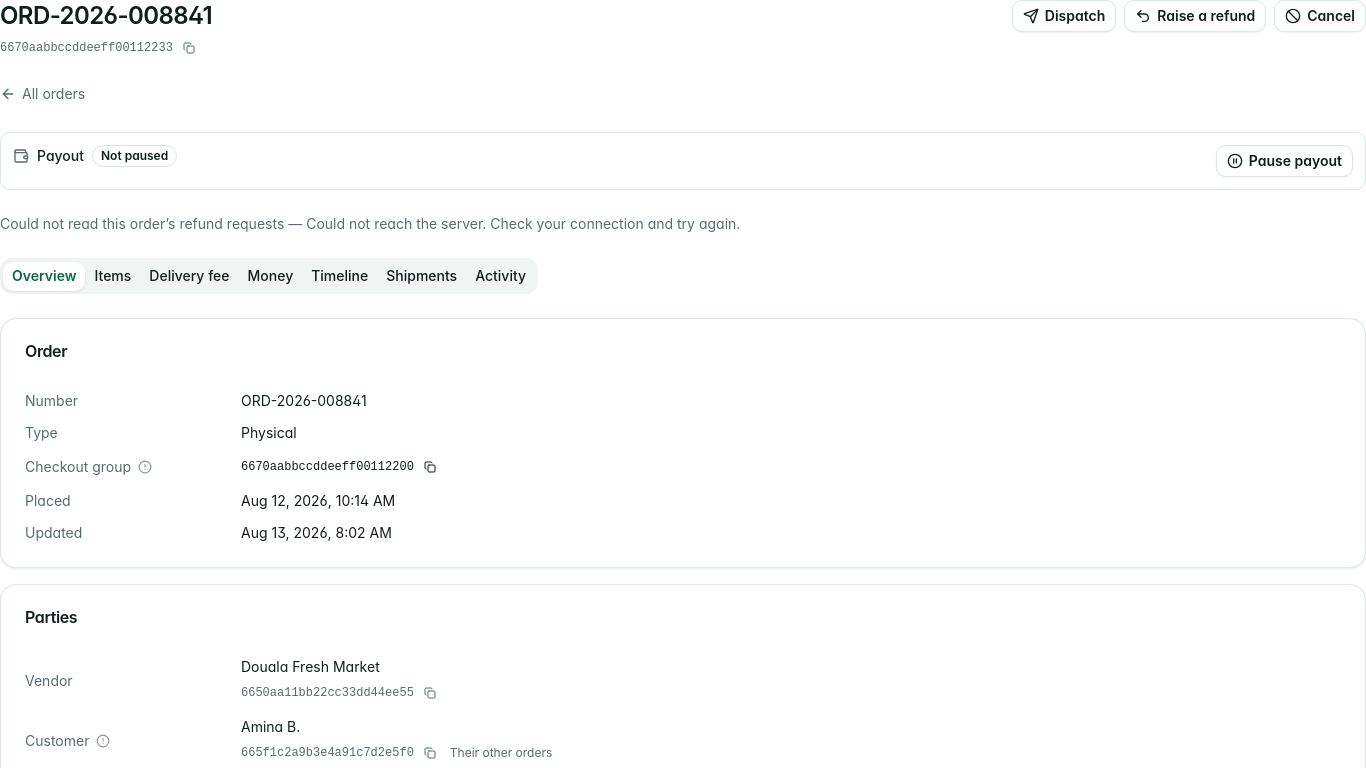
Test: the order payout card › reads EARNINGS_ALREADY_PAUSED as somebody got there first
Click the button "Pause payout" at (1284, 161), box [1216, 145, 1353, 177]
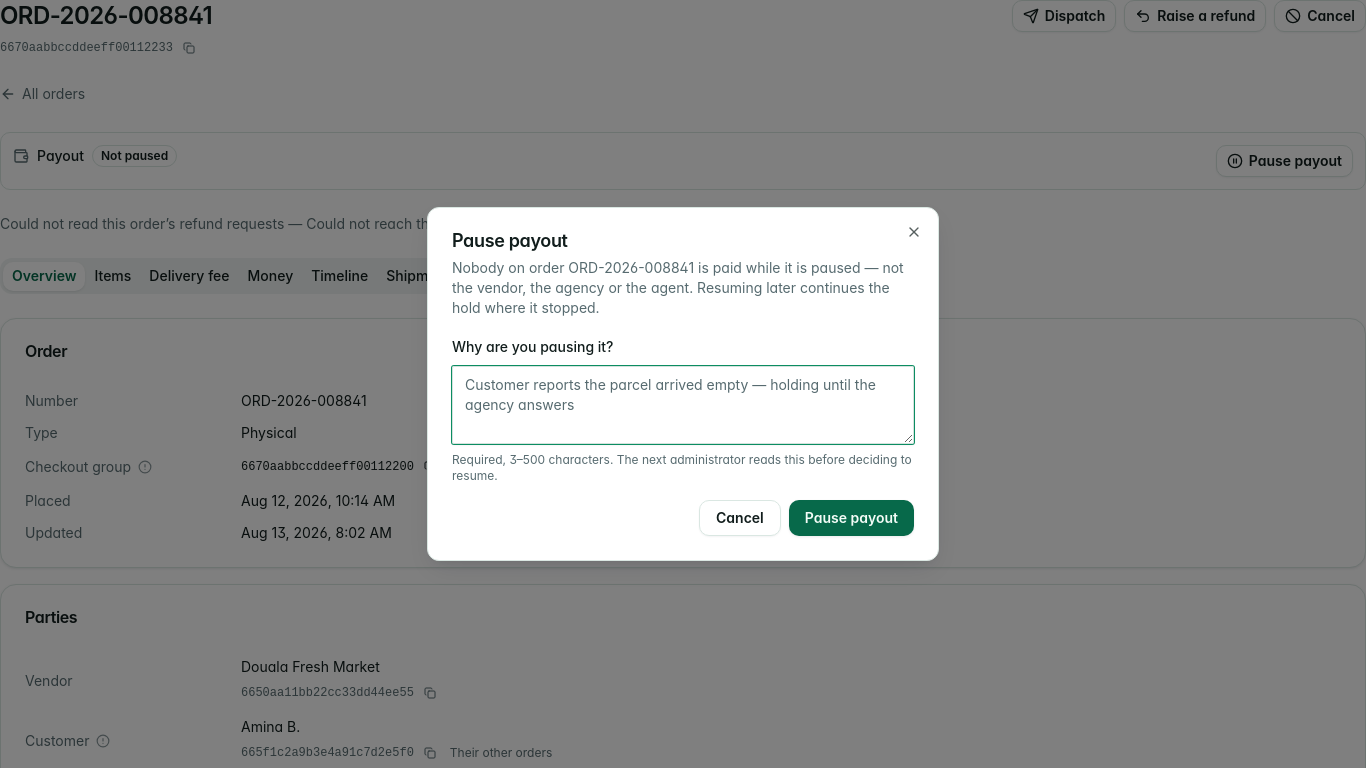
Type "Parcel empty" into the text box labelled "Why are you pausing it?" at (683, 405), box [452, 366, 914, 444]
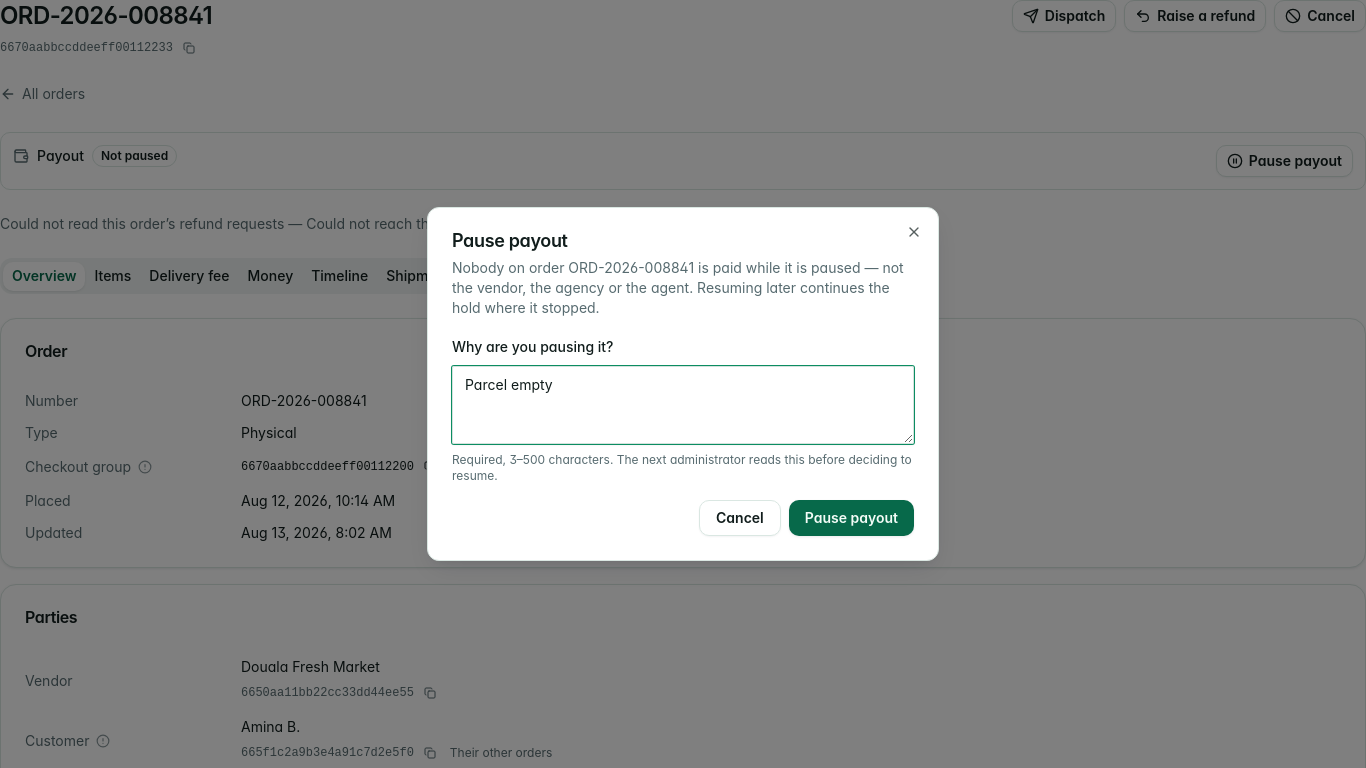
Click the button "Pause payout" at (851, 518), box [789, 500, 914, 536]
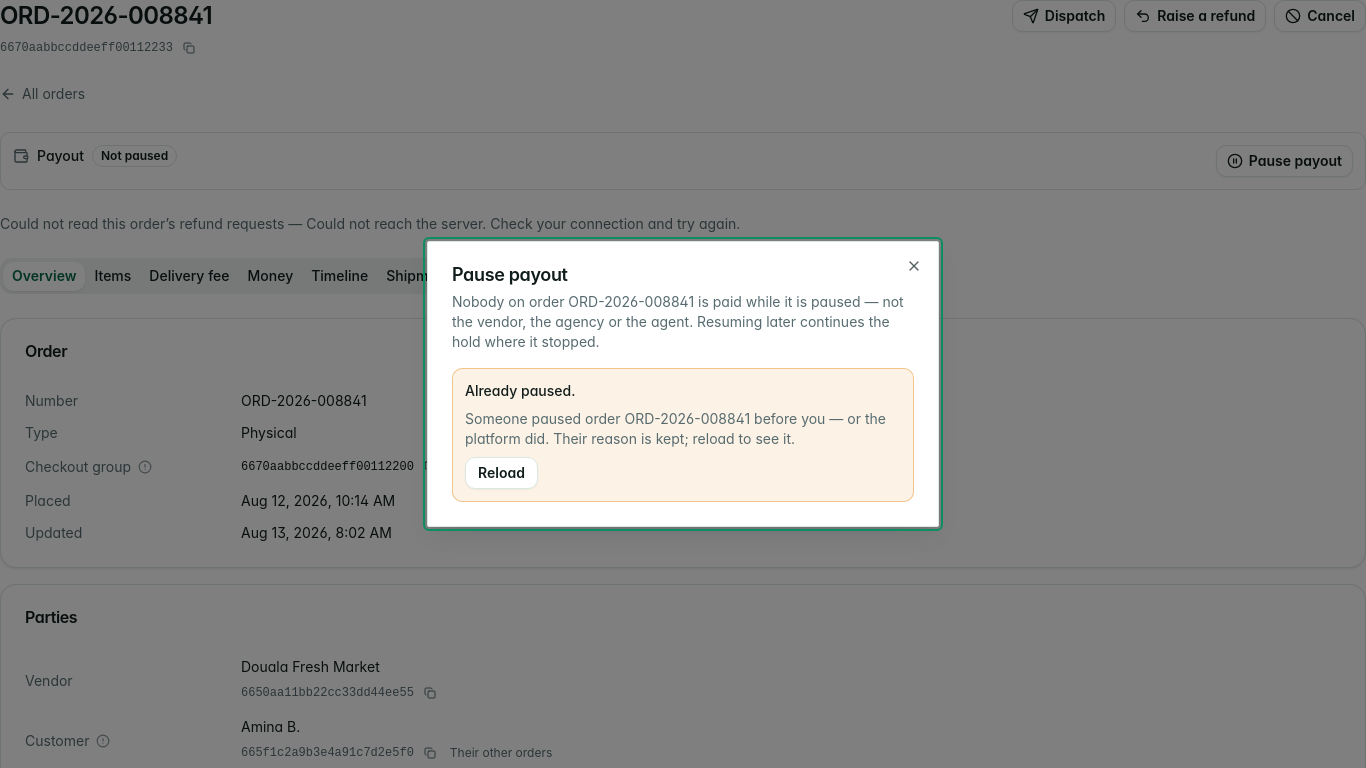
Result: the text "Already paused." is shown at [465, 382, 575, 399]
Result: the button "Reload" is shown at [465, 457, 538, 489]
